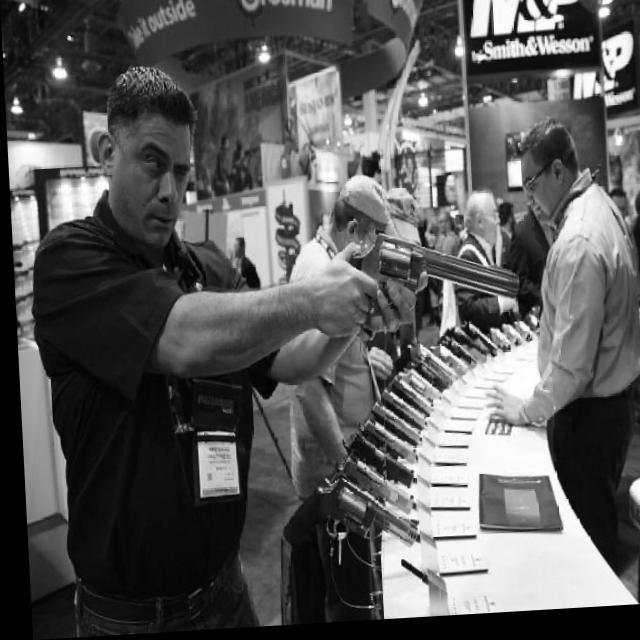weapon: (344, 225, 522, 328), (312, 470, 416, 560), (346, 432, 416, 508), (366, 402, 422, 455), (362, 418, 414, 472), (397, 556, 446, 608), (380, 374, 426, 426), (436, 338, 480, 377), (422, 355, 461, 393), (395, 371, 433, 409), (454, 332, 494, 368), (432, 344, 466, 382), (414, 366, 454, 398), (406, 526, 436, 563), (490, 334, 529, 362), (472, 331, 506, 363), (508, 325, 534, 354), (10, 258, 32, 290), (9, 234, 36, 256), (12, 296, 35, 316), (14, 318, 31, 344), (240, 152, 258, 162)
